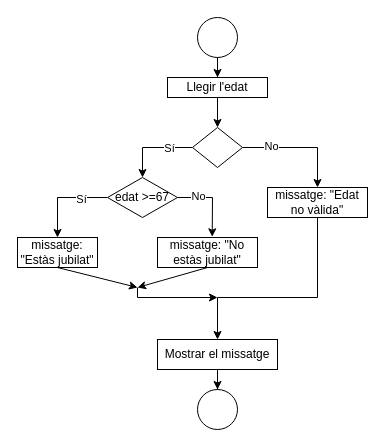
Some shapes in this 385 by 447 pixel diagram are drawn without their labels. Here are the shapes that lost their labels. From the top down, the centre of each, then its label:
point 217,37: Inici
point 217,147: edat >0
point 217,409: Final
